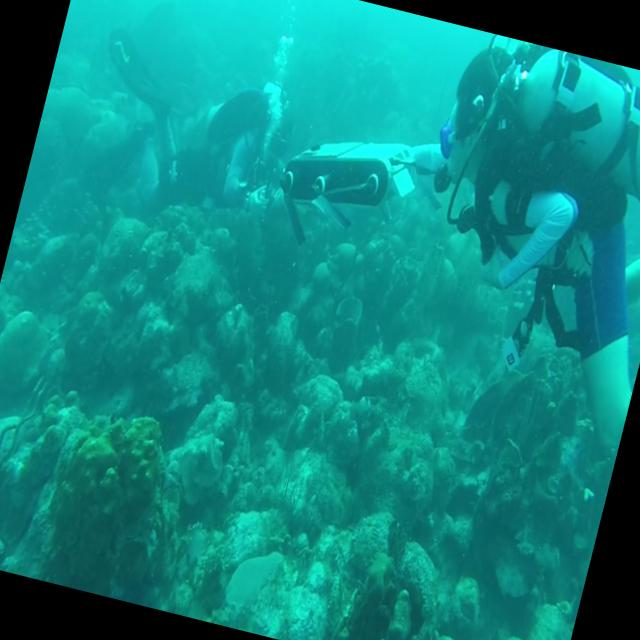human: (374, 26, 640, 455), (79, 16, 324, 258)
